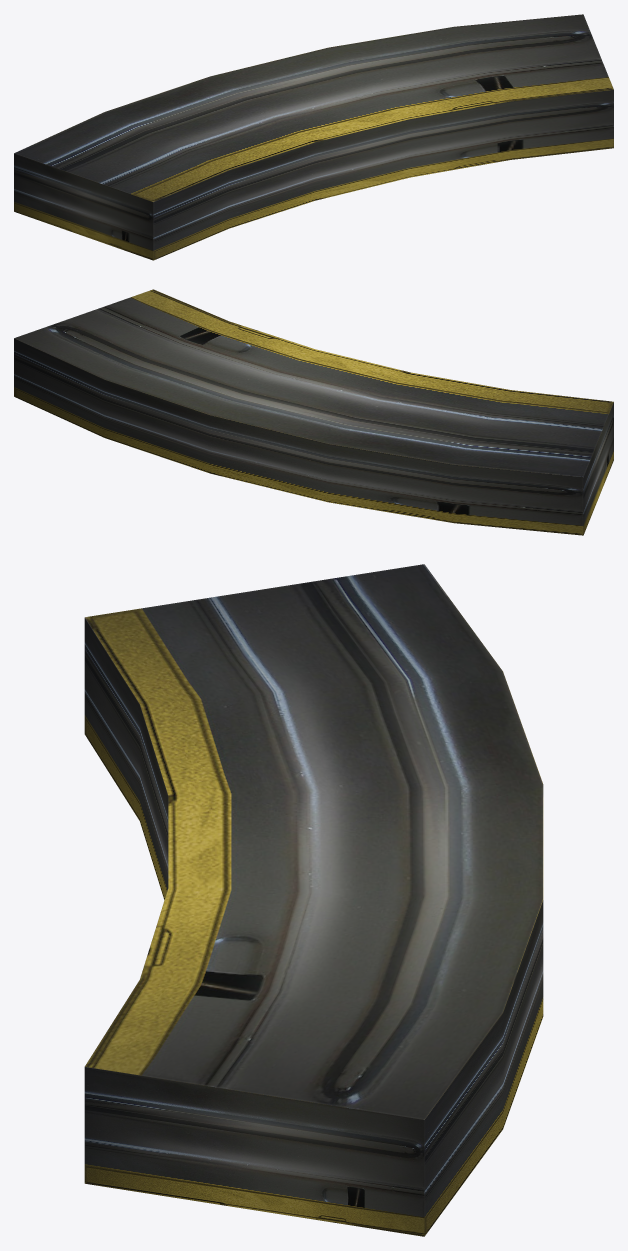
Rendered from static.glb.
The picture shows the model from 3 angles, top to bottom: view 1: azimuth 30°, elevation 25°; view 2: azimuth 150°, elevation 25°; view 3: azimuth 270°, elevation 25°; orthographic projection. The views are drawn at different scales.
Parts seen in each view (by area): view 1: Cube; view 2: Cube; view 3: Cube.
Part boxes in pixels (x1,y1,x2,y2): Cube: (14, 14, 613, 260); Cube: (14, 289, 613, 535); Cube: (84, 564, 543, 1236).
Size of the model in its own units: 1.05 by 0.1034 by 0.3676.
Materials: 1 (1 with a texture image).
